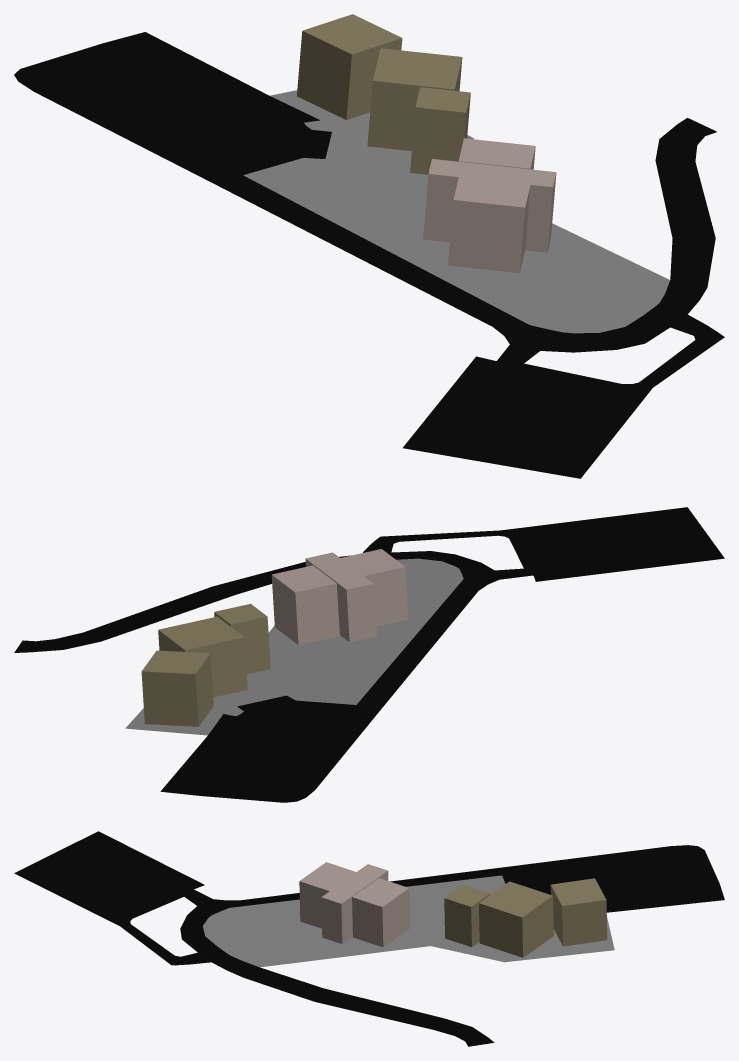
File: church4.glb
3 renders of one model, top to bottom at view 1: azimuth 30°, elevation 25°; view 2: azimuth 150°, elevation 25°; view 3: azimuth 270°, elevation 25°, orthographic. The views are drawn at different scales.
Parts seen in each view (by area): view 1: churchlot; view 2: churchlot; view 3: churchlot.
Boxes of the visible parts, x1=… form: churchlot: x1=14, y1=14, x2=724, y2=478; churchlot: x1=14, y1=507, x2=724, y2=802; churchlot: x1=14, y1=831, x2=724, y2=1046.
Bounding box in the file's own units: 0.2687 × 0.0455 × 0.4262.
